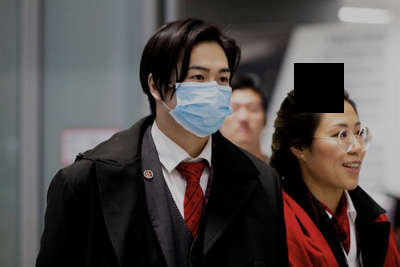with_mask: (168, 65, 234, 139)
without_mask: (309, 119, 368, 191), (223, 89, 266, 146)
